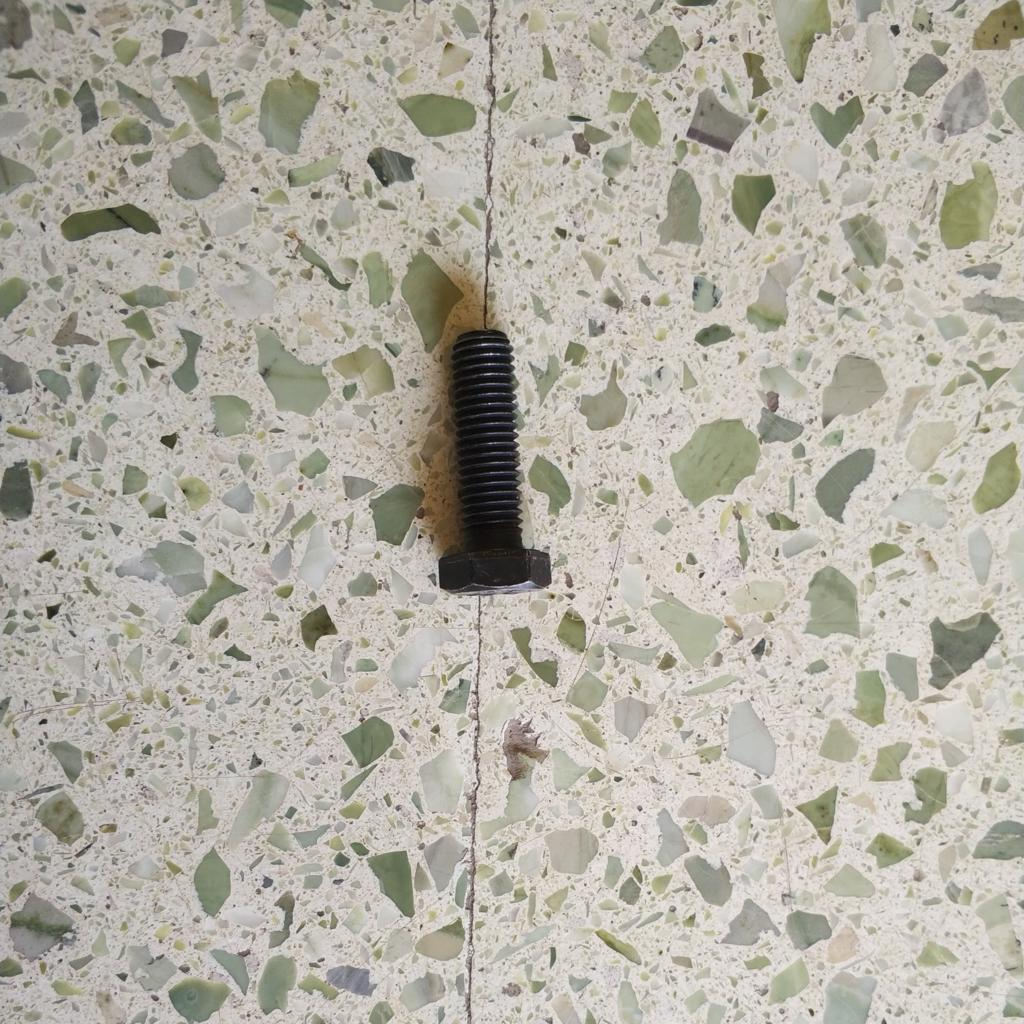screwtype2black: (433, 323, 555, 602)
